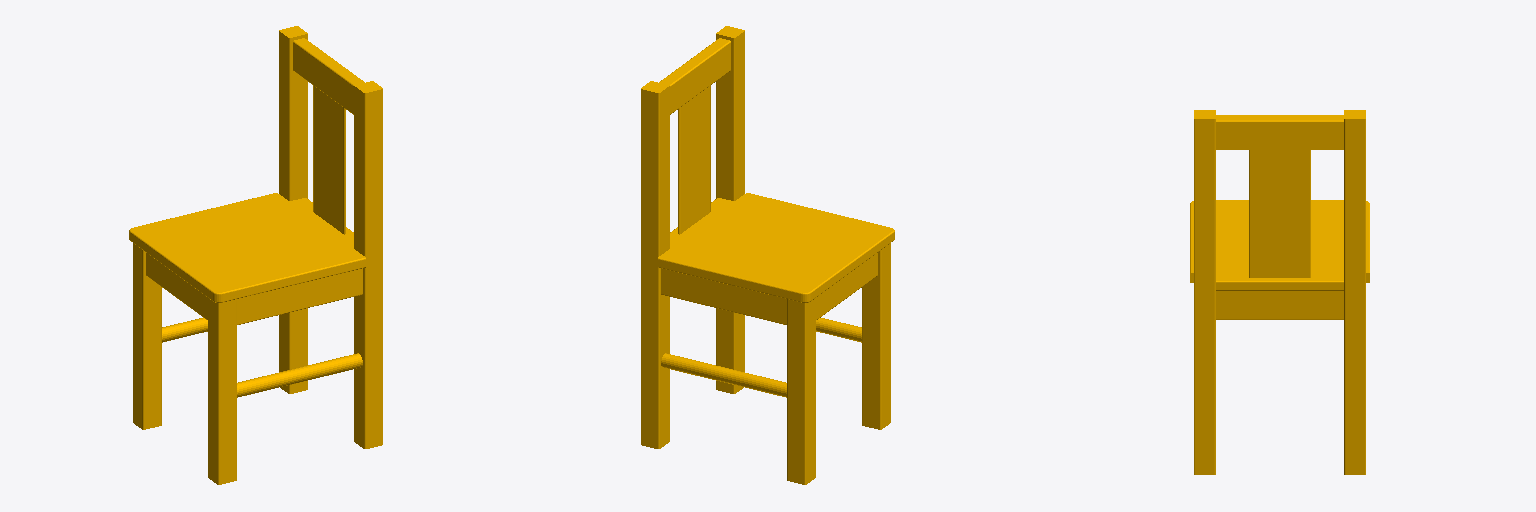
File: kritter.obj
3 views of the same model, side by side, from view 1: azimuth 30°, elevation 25°; view 2: azimuth 150°, elevation 25°; view 3: azimuth 270°, elevation 25° (orthographic).
Parts seen in each view (by area): view 1: Mesh1 Group1 Model; view 2: Mesh1 Group1 Model; view 3: Mesh1 Group1 Model.
Boxes of the visible parts, box(x1,y1,x2,y2) form: Mesh1 Group1 Model: box(129, 26, 382, 484); Mesh1 Group1 Model: box(641, 26, 894, 484); Mesh1 Group1 Model: box(1190, 110, 1369, 474).
Size of the model in its own units: 266 by 535 by 245.